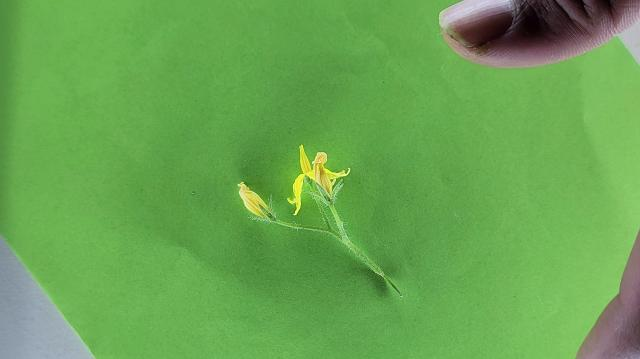Anthesis: (286, 144, 351, 216), (236, 181, 274, 221)
